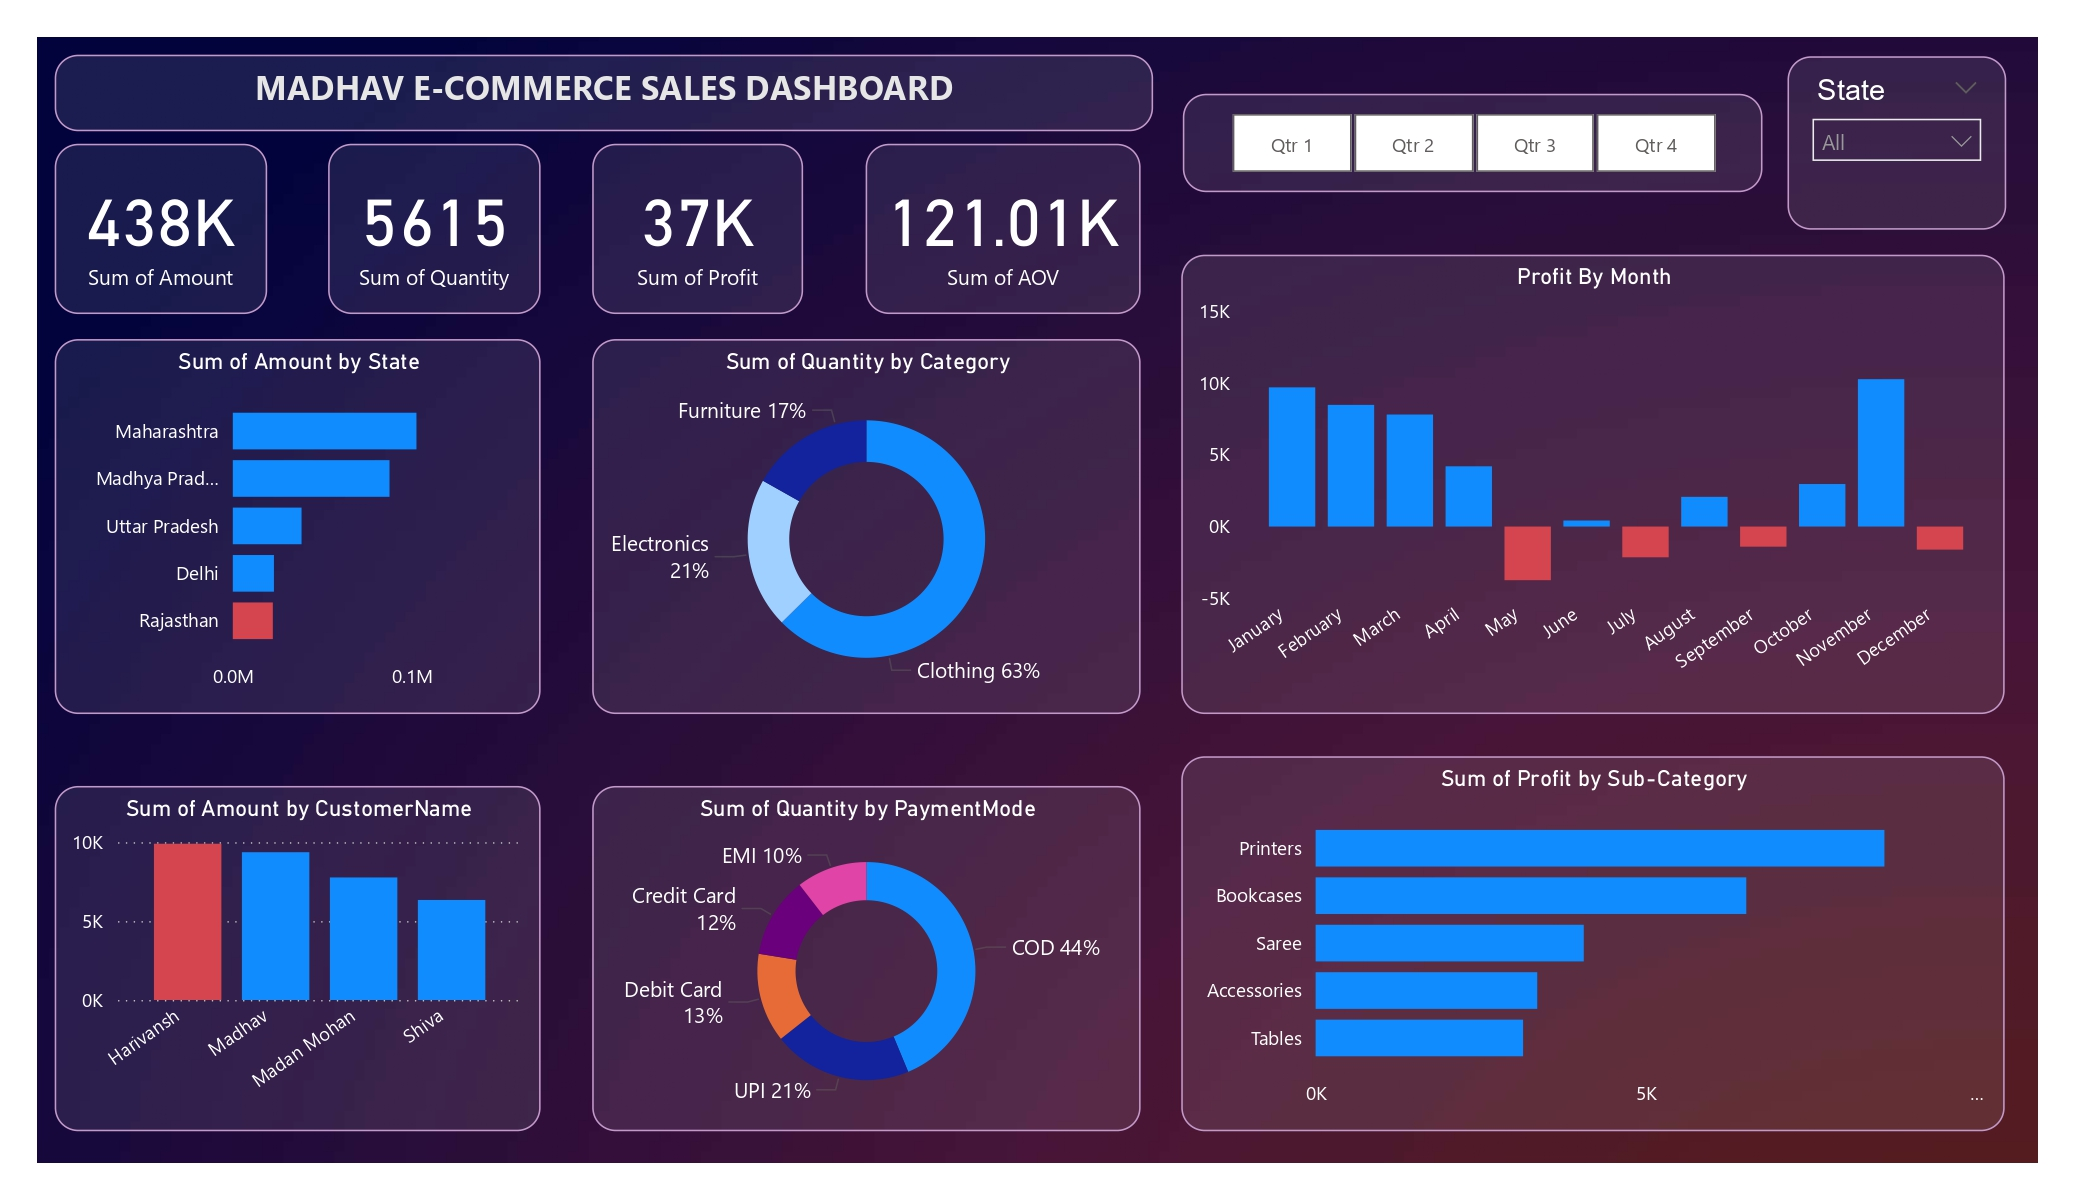

What the dashboard file says about the page in this screenshot:
{"tool":"powerbi","page":{"name":"Page 1","canvas":[1280,720],"ordinal":0},"visuals":[{"type":"textbox","box":[11.4,11.4,702.1,48.7],"z":0},{"type":"columnChart","title":"Profit By Month","fields":{"Category":["Orders.Order Date.Variation.Date Hierarchy.Month"],"Y":["Details.Profit"]},"box":[732.2,138.8,527.1,294.1],"z":1000},{"type":"barChart","fields":{"Category":["Details.Sub-Category"],"Y":["Details.Profit"]},"box":[732.2,459.8,527.1,240.3],"z":2000},{"type":"donutChart","fields":{"Category":["Details.Category"],"Y":["Details.Quantity"]},"box":[354.6,193,351,239.7],"z":3000},{"type":"donutChart","fields":{"Y":["Details.Quantity"],"Category":["Details.PaymentMode"]},"box":[354.6,479.4,351,220.8],"z":4000},{"type":"card","fields":{"Values":["Details.Amount"]},"box":[11.4,68.3,135.7,108.7],"z":5000},{"type":"card","fields":{"Values":["Details.Quantity"]},"box":[186.4,68.3,135.7,108.7],"z":6000},{"type":"card","fields":{"Values":["Details.Profit"]},"box":[354.6,68.2,135.6,108.6],"z":7000},{"type":"card","fields":{"Values":["Details.AOV"]},"box":[529.7,68.2,176,108.6],"z":8000},{"type":"barChart","fields":{"Category":["Orders.State"],"Y":["Details.Amount"]},"box":[11.4,192.6,310.7,240.3],"z":9000},{"type":"columnChart","fields":{"Category":["Orders.CustomerName"],"Y":["Details.Amount"]},"box":[11.4,479.5,310.7,220.6],"z":10000},{"type":"slicer","fields":{"Values":["Orders.Order Date.Variation.Date Hierarchy.Quarter"]},"box":[732.6,35.9,371.7,62.8],"z":11000},{"type":"slicer","title":"Demo","fields":{"Values":["Orders.State"]},"box":[1120.4,11.7,139.2,111.3],"z":12000}]}

Visuals, with their boxes on the page's 1280x720 design canvas (x1, y1, x2, y2). These are canvas units, not pixel positions in the 2075x1200 screenshot, which may show the page scaled, cropped or inside an application window:
textbox: 11,11,714,60
"Profit By Month" columnChart: 732,139,1259,433
barChart - Details.Sub-Category x Details.Profit: 732,460,1259,700
donutChart - Details.Category x Details.Quantity: 355,193,706,433
donutChart - Details.Quantity x Details.PaymentMode: 355,479,706,700
card - Details.Amount: 11,68,147,177
card - Details.Quantity: 186,68,322,177
card - Details.Profit: 355,68,490,177
card - Details.AOV: 530,68,706,177
barChart - Orders.State x Details.Amount: 11,193,322,433
columnChart - Orders.CustomerName x Details.Amount: 11,480,322,700
slicer - Orders.Order Date.Variation.Date Hierarchy.Quarter: 733,36,1104,99
"Demo" slicer: 1120,12,1260,123
